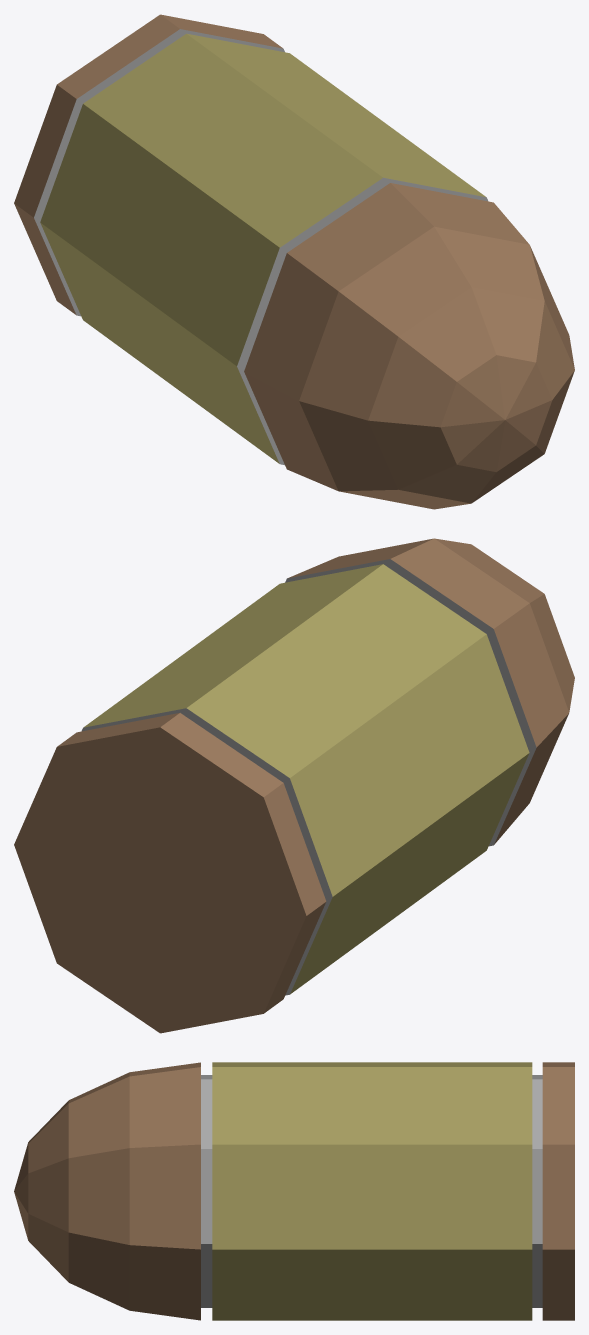
The model's file is bullet_lowpoly_positive.fbx.
3 renders of one model, top to bottom at view 1: azimuth 30°, elevation 25°; view 2: azimuth 150°, elevation 25°; view 3: azimuth 270°, elevation 25°, orthographic. The views are drawn at different scales.
Parts seen in each view (by area): view 1: pSphere2; view 2: pSphere2; view 3: pSphere2.
Part boxes in pixels (left/top/right/bottom): pSphere2: left=14, top=14, right=574, bottom=509; pSphere2: left=14, top=538, right=574, bottom=1033; pSphere2: left=14, top=1062, right=574, bottom=1320.
Bounding box in the file's own units: 2 × 2 × 4.08.
